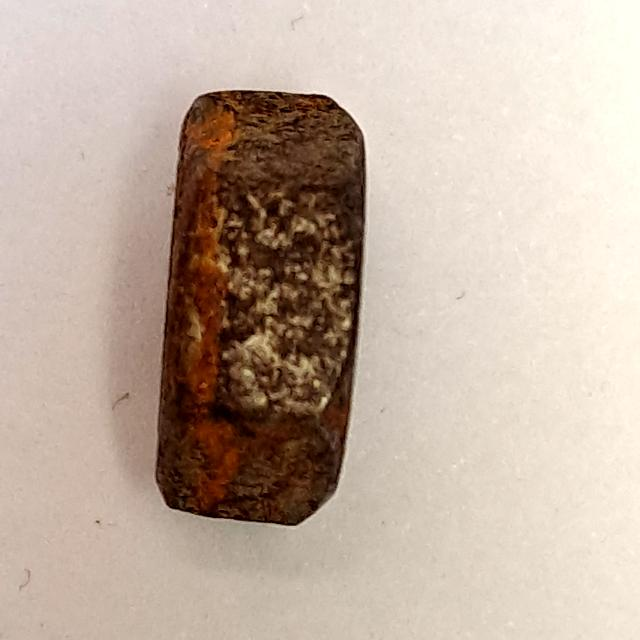Side_Rust: (121, 75, 401, 544)
